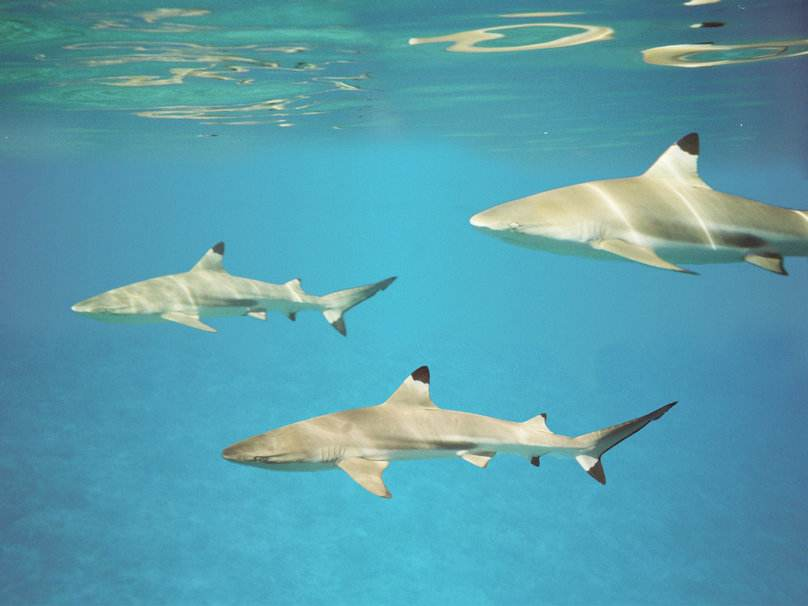shark: (218, 371, 680, 497), (470, 135, 808, 278), (68, 240, 398, 339)
